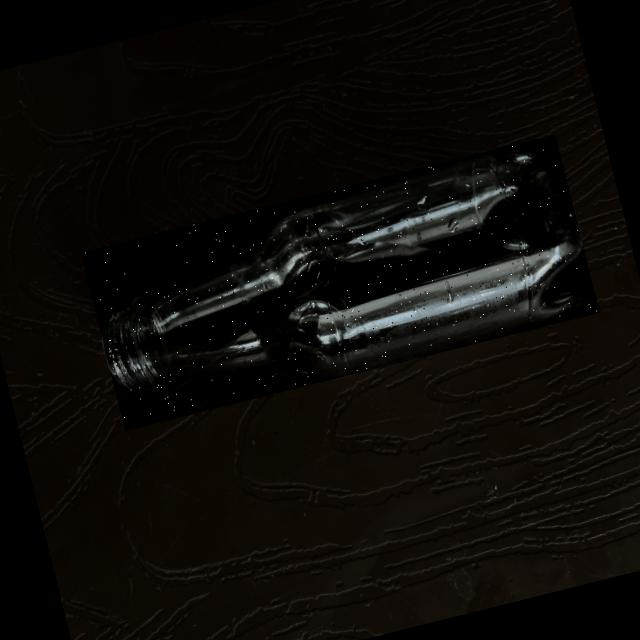PET_With_Liquid: (106, 147, 581, 379)
